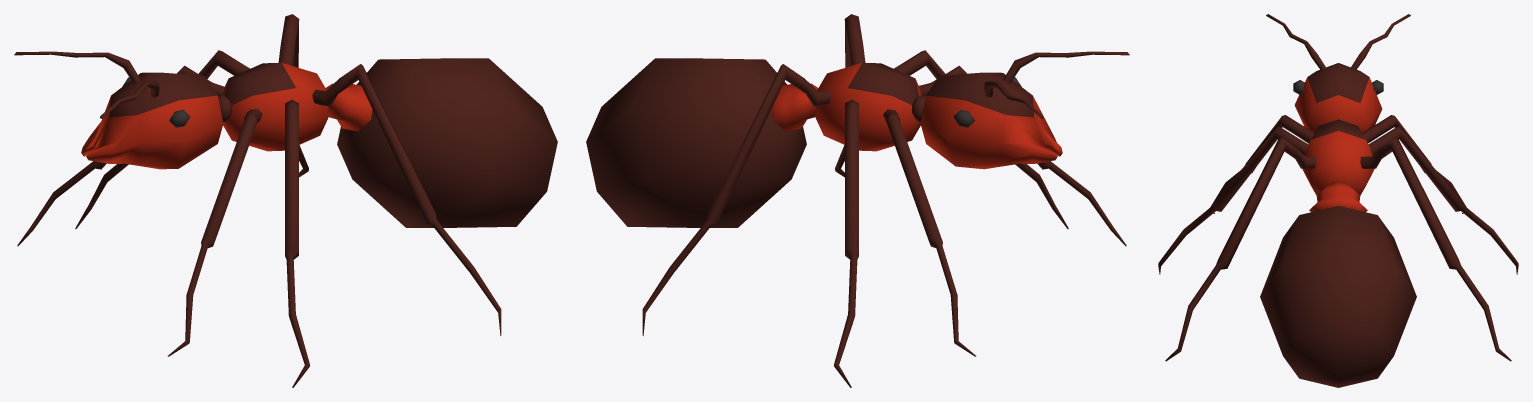
The model's file is Warrior_Ant.fbx.
3 views of the same model, side by side, from view 1: azimuth 30°, elevation 25°; view 2: azimuth 150°, elevation 25°; view 3: azimuth 270°, elevation 25° (orthographic). The views are drawn at different scales.
Parts seen in each view (by area): view 1: default; view 2: default; view 3: default.
Boxes of the visible parts, left/top/right/bottom form: default: left=14, top=14, right=557, bottom=387; default: left=586, top=14, right=1129, bottom=387; default: left=1158, top=14, right=1518, bottom=387.
Size of the model in its own units: 470 by 240 by 368.
